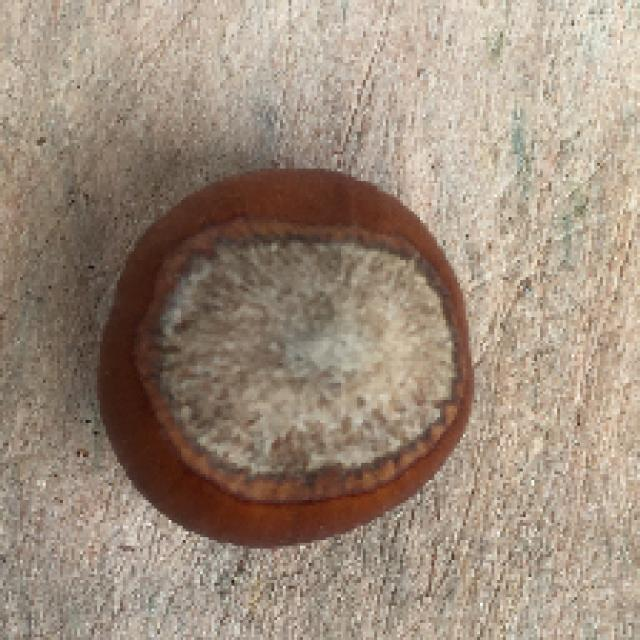QualityHazelnut: (97, 166, 480, 549)
